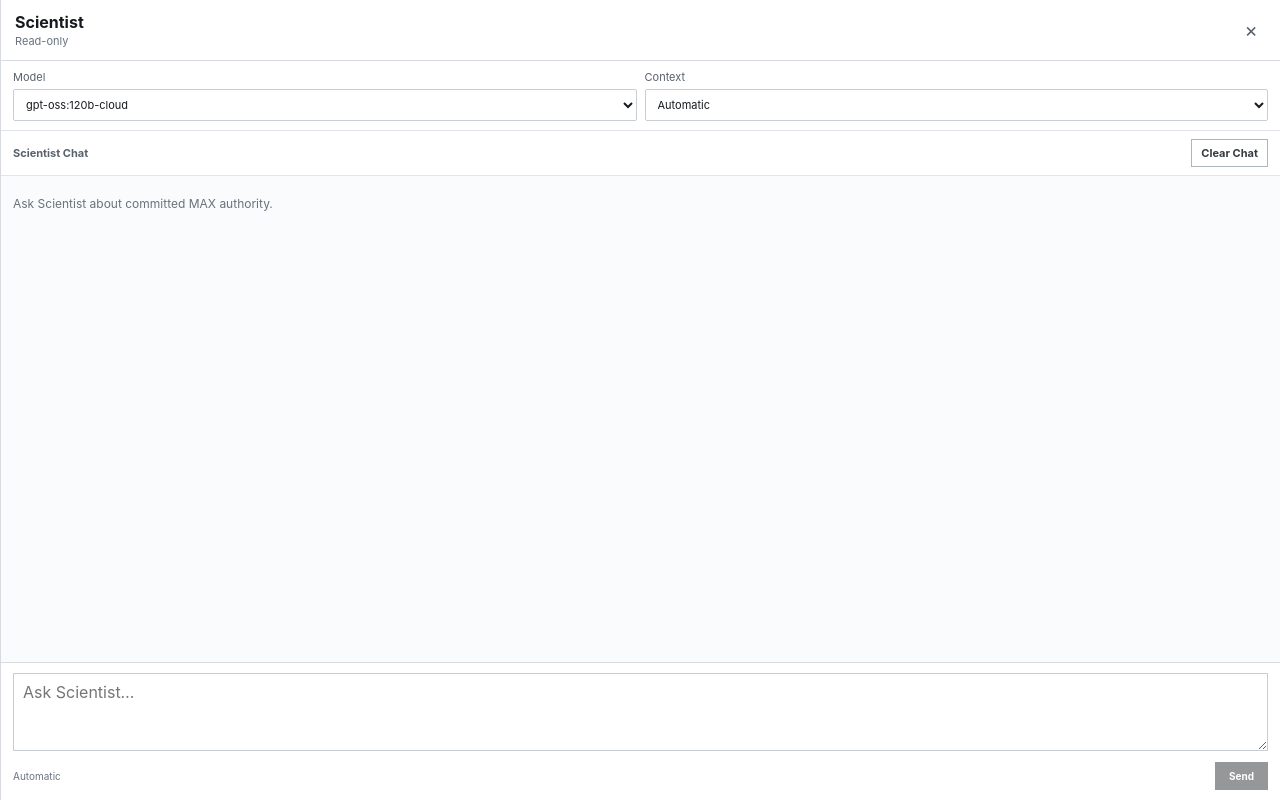
Test case: Scientist right drawer › removes thinking on failure and keeps canonical persisted user turn
Type "Read-only question" into the text box named "Message Scientist". click: [640, 712]
box: [13,673,1268,751]
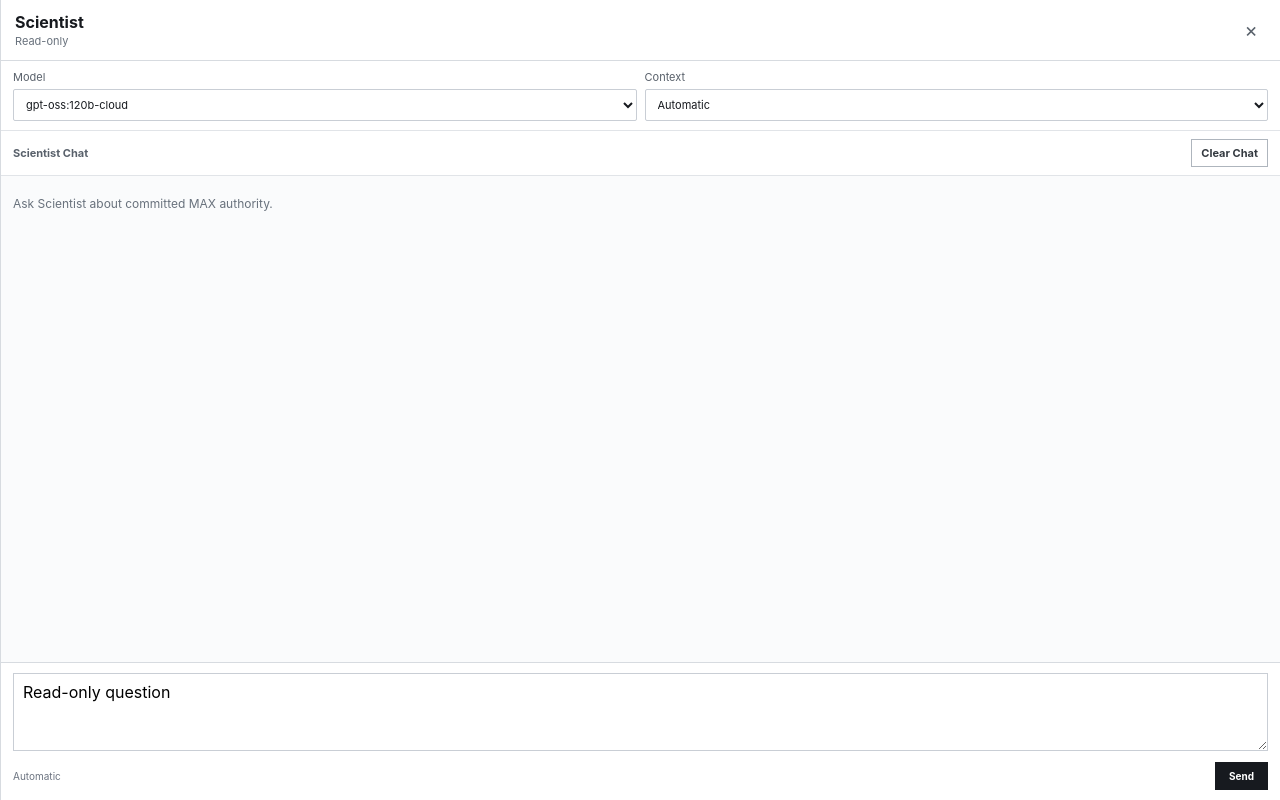
Click the button "Send". click: [1242, 776]
box: [1215,762,1268,790]
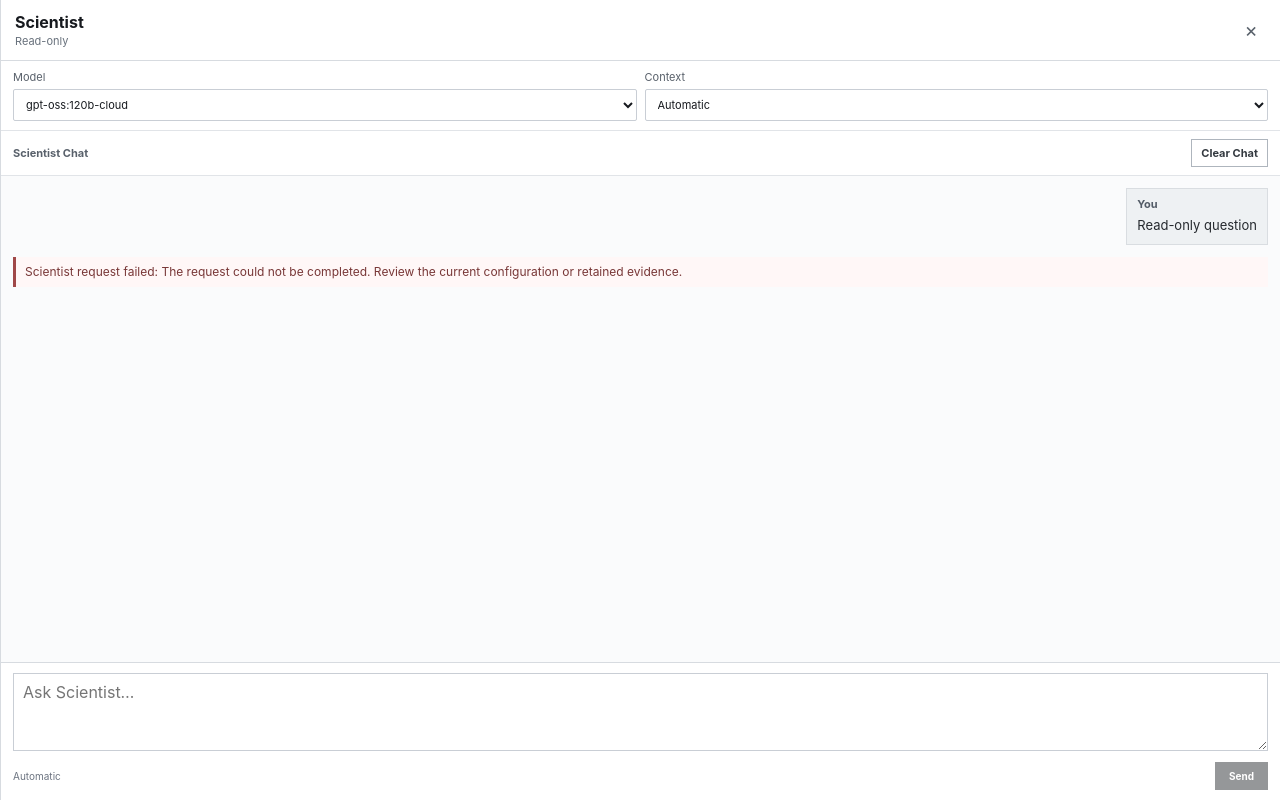
Expected: the text box named "Message Scientist" is enabled, [13,673,1268,751]
Now the text "Scientist request failed: The request could not be completed. Review the current configuration or retained evidence." is shown, box [13,256,1268,287]
Now the text "Read-only question" is shown once, box [1137,216,1257,236]
